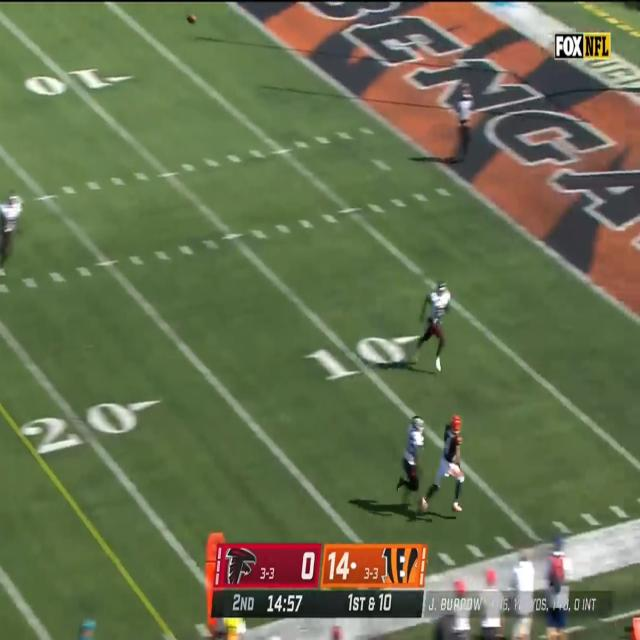Ball: (186, 11, 198, 27)
